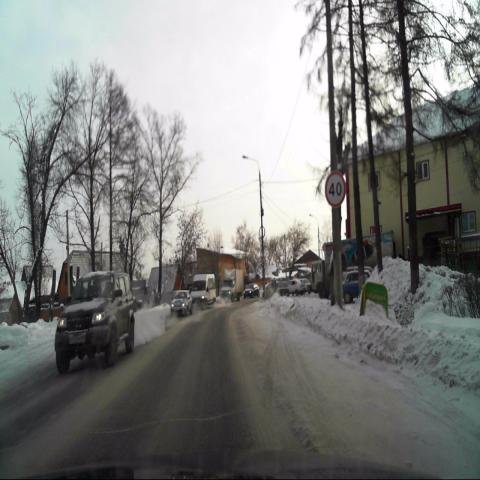3_24: (325, 171, 345, 208)
